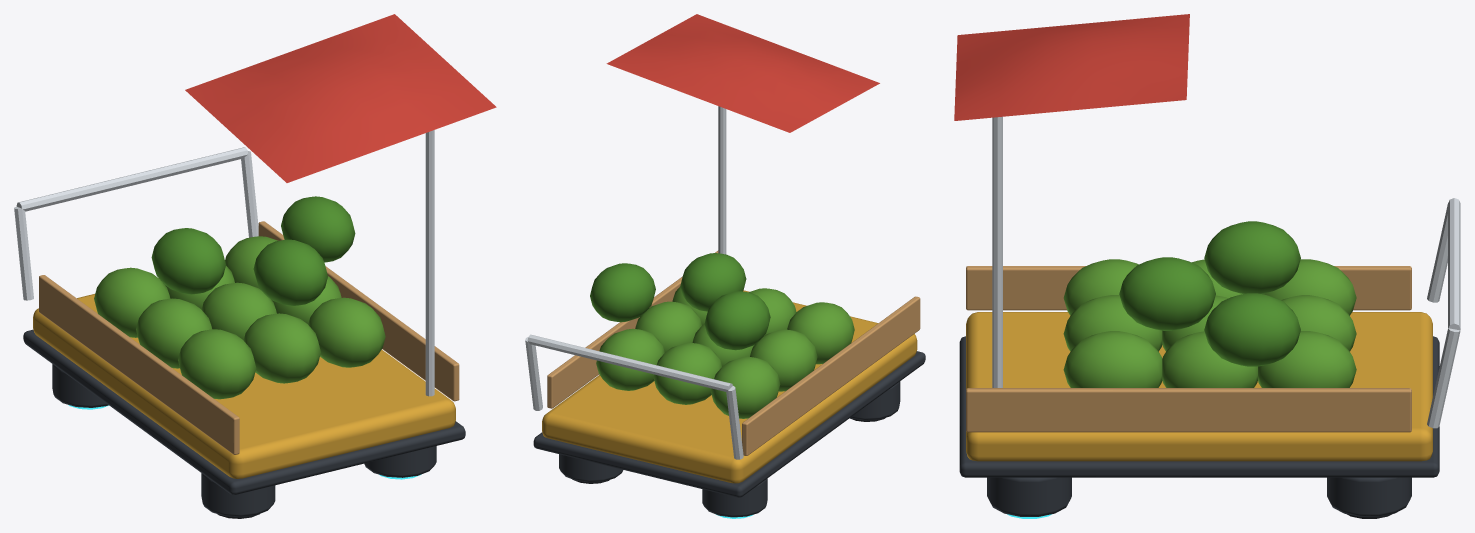
File: mk_hover_barrow.glb
The picture shows the model from 3 angles, left to right: view 1: azimuth 30°, elevation 25°; view 2: azimuth 150°, elevation 25°; view 3: azimuth 270°, elevation 25°; orthographic projection. The views are drawn at different scales.
Parts seen in each view (by area): view 1: mk_hover_barrow_body; view 2: mk_hover_barrow_body; view 3: mk_hover_barrow_body.
Part boxes in pixels (x1=…): mk_hover_barrow_body: x1=14, y1=14, x2=496, y2=518; mk_hover_barrow_body: x1=525, y1=14, x2=925, y2=518; mk_hover_barrow_body: x1=954, y1=14, x2=1460, y2=518.
Bounding box in the file's own units: 1.63 × 2.3 × 2.39.
